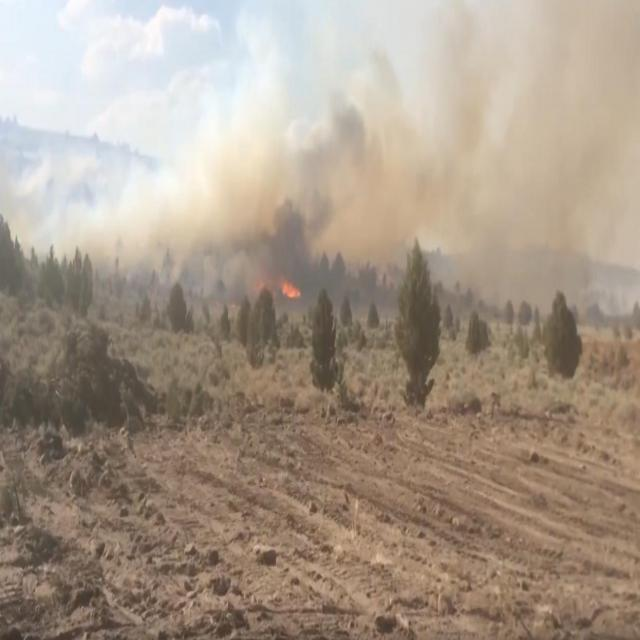Fire: (280, 275, 300, 308)
